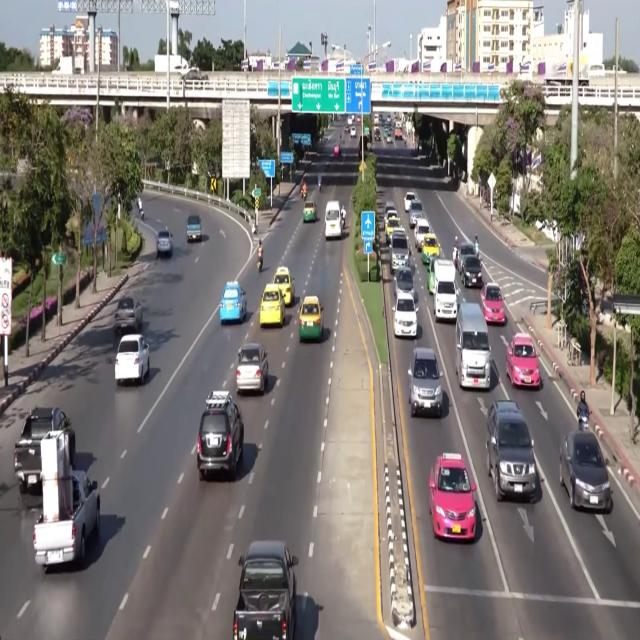car: (487, 400, 537, 501), (197, 391, 244, 480), (560, 431, 612, 511), (430, 454, 476, 540), (408, 347, 442, 417), (506, 333, 541, 388), (114, 334, 150, 385), (236, 344, 268, 393), (220, 281, 247, 323), (393, 292, 417, 338), (299, 296, 323, 342), (259, 283, 284, 327), (115, 296, 142, 335), (481, 283, 505, 325), (390, 229, 410, 273), (393, 267, 418, 302), (273, 266, 294, 306), (461, 255, 482, 287), (457, 242, 474, 273), (422, 233, 439, 263), (414, 218, 430, 248), (426, 256, 438, 295), (385, 215, 401, 244), (156, 230, 172, 259), (409, 200, 424, 228), (187, 215, 202, 242), (302, 201, 318, 223), (182, 68, 207, 80), (384, 208, 399, 227), (404, 192, 417, 212), (384, 200, 396, 217), (333, 145, 341, 159), (374, 128, 382, 141), (348, 116, 354, 127), (350, 127, 356, 138), (386, 133, 392, 143), (345, 123, 349, 132), (356, 116, 360, 123)
scooty: (578, 408, 589, 431), (258, 256, 262, 272), (140, 209, 144, 221)
traffic signal: (210, 177, 216, 191)
truck: (33, 432, 100, 571), (233, 541, 297, 639), (14, 408, 75, 494), (433, 259, 458, 321), (545, 58, 572, 86), (154, 55, 189, 74), (52, 56, 84, 74)
